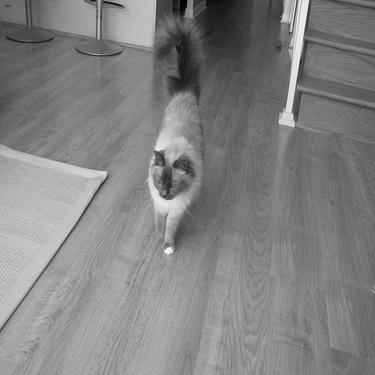cat: (147, 17, 204, 259)
